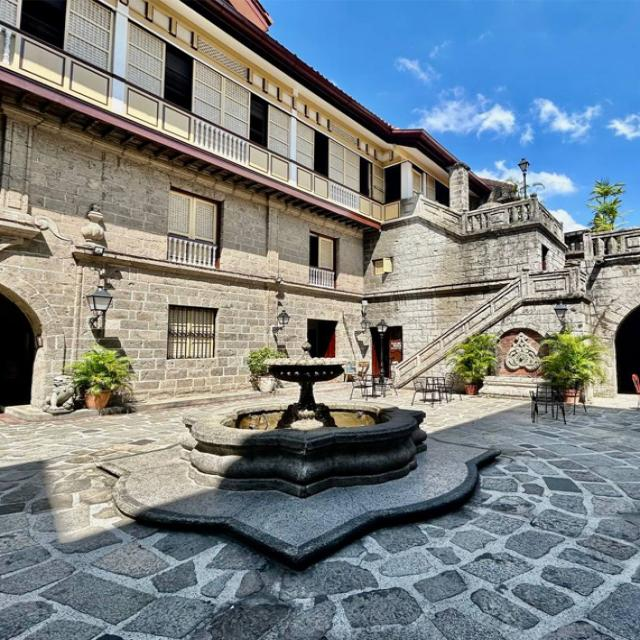Casa Manila: (0, 0, 640, 640)
